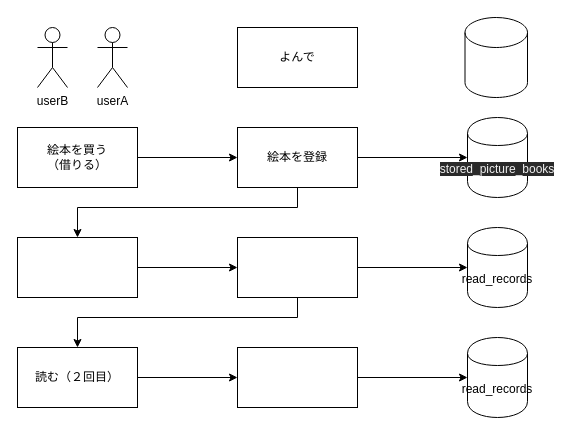
The diagram is 572 pixels wide and 435 high, and some of its shapes have lost their labels. Here are the shapes that lost their labels. From the top down, the centre of each, then its label:
At point 496,57: "DB".
At point 77,267: "絵本を読む".
At point 297,267: "読んだ記録".
At point 297,377: "読んだ記録（２）".
